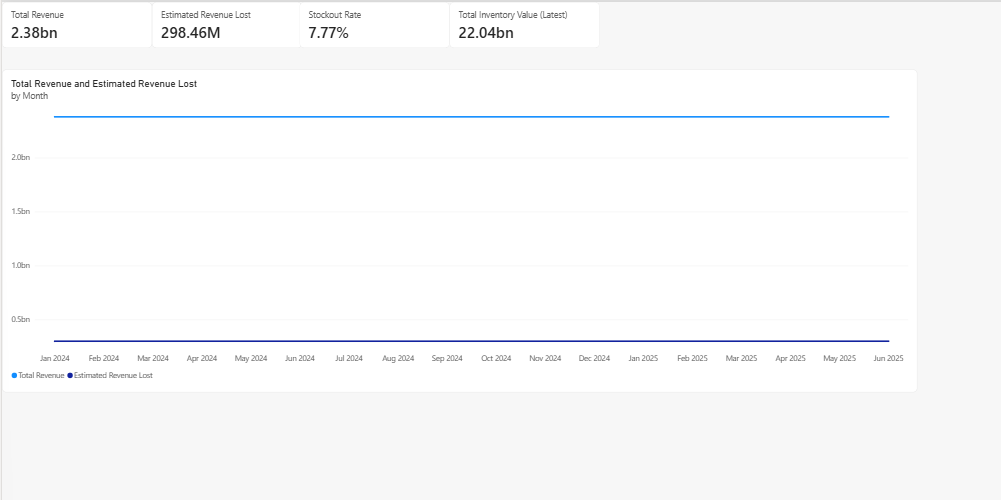

What the dashboard file says about the page in this screenshot:
{"tool":"powerbi","page":{"name":"Executive Overview","canvas":[1920,1080],"ordinal":0},"visuals":[{"type":"cardVisual","fields":{"Data":["sales.Total Revenue"]},"box":[0,0,280,280],"z":0},{"type":"cardVisual","fields":{"Data":["sales.Estimated Revenue Lost"]},"box":[280,0,280,280],"z":1000},{"type":"cardVisual","fields":{"Data":["inventory.Stockout Rate"]},"box":[555.6,0,280,280],"z":2000},{"type":"cardVisual","fields":{"Data":["products.Total Inventory Value (Latest)"]},"box":[1187.7,49.4,280,280],"z":3000},{"type":"lineChart","fields":{"Category":["DateTable.Month"],"Y":["sales.Total Revenue","sales.Estimated Revenue Lost"]},"box":[71.1,280,417.8,407.5],"z":4000}]}

Visuals, with their boxes on the page's 1920x1080 design canvas (x1, y1, x2, y2). These are canvas units, not pixel positions in the 1001x500 screenshot, which may show the page scaled, cropped or inside an application window:
cardVisual - sales.Total Revenue: <box>0,0,280,280</box>
cardVisual - sales.Estimated Revenue Lost: <box>280,0,560,280</box>
cardVisual - inventory.Stockout Rate: <box>556,0,836,280</box>
cardVisual - products.Total Inventory Value (Latest): <box>1188,49,1468,329</box>
lineChart - DateTable.Month x sales.Total Revenue: <box>71,280,489,688</box>
